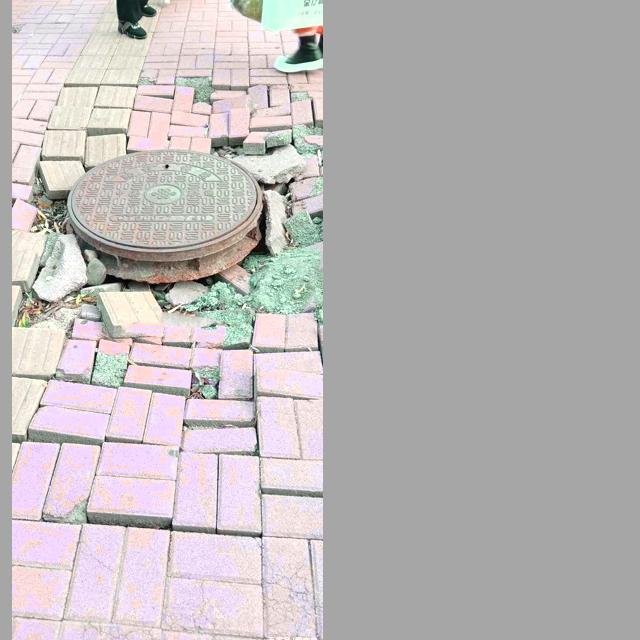circle: (18, 92, 319, 407)
